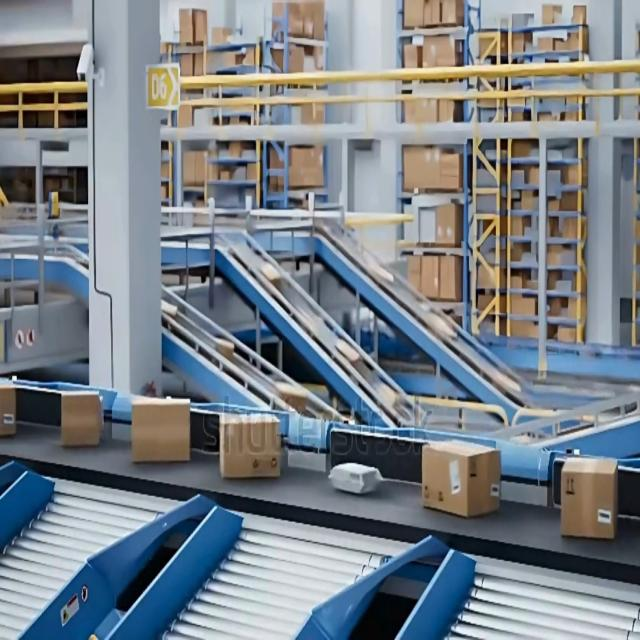product 1: (421, 439, 479, 518), (218, 411, 282, 479), (130, 396, 190, 463)
product 2: (328, 461, 382, 495)
